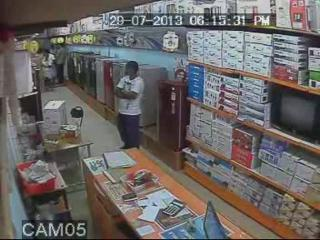Normal: (270, 88, 320, 146), (114, 61, 145, 150)
